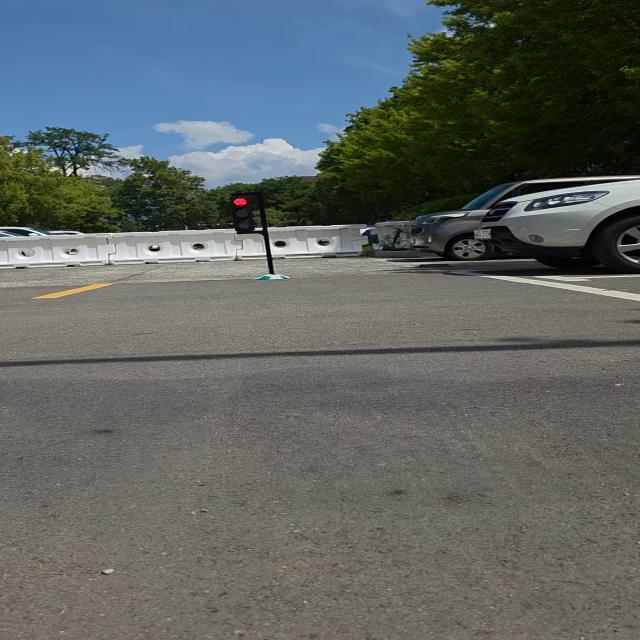red: (228, 195, 261, 231)
